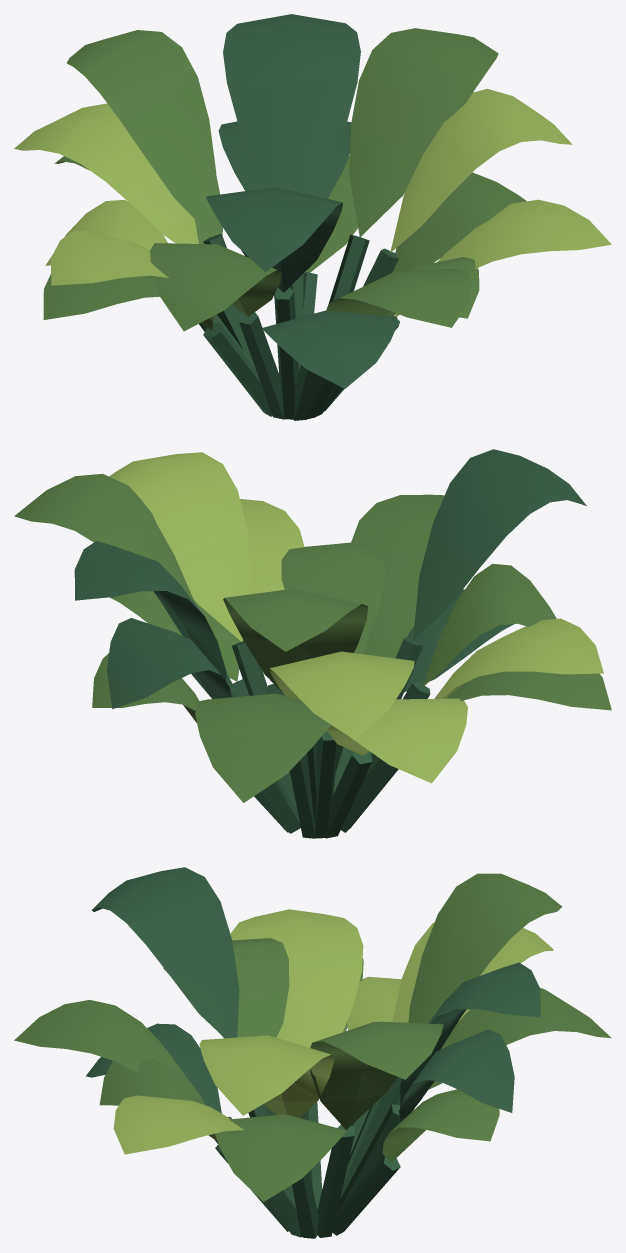
The model's file is foliage_coastal_shrub_a.glb.
The picture shows the model from 3 angles, top to bottom: view 1: azimuth 30°, elevation 25°; view 2: azimuth 150°, elevation 25°; view 3: azimuth 270°, elevation 25°; orthographic projection. The views are drawn at different scales.
Parts seen in each view (by area): view 1: foliage_coastal_shrub_a_LOD0; view 2: foliage_coastal_shrub_a_LOD0; view 3: foliage_coastal_shrub_a_LOD0.
Boxes of the visible parts, x1,y1,x2,y2 form: foliage_coastal_shrub_a_LOD0: (14,14,611,420); foliage_coastal_shrub_a_LOD0: (14,449,611,838); foliage_coastal_shrub_a_LOD0: (14,867,611,1238).
Size of what is drawn, in the model's own units: 1.37 by 0.8043 by 1.44.
